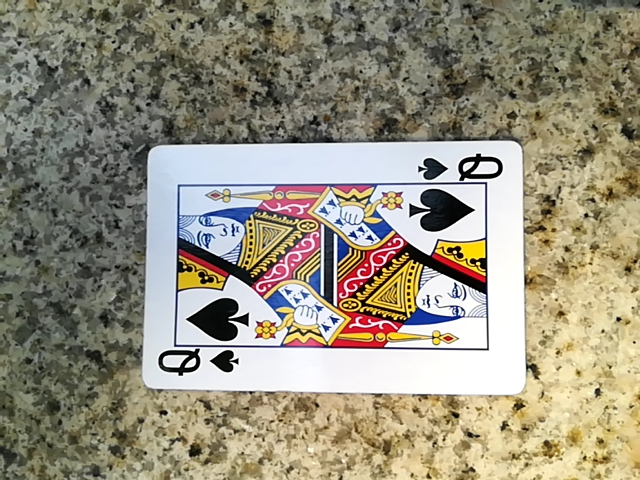ht q: (140, 134, 528, 396)
